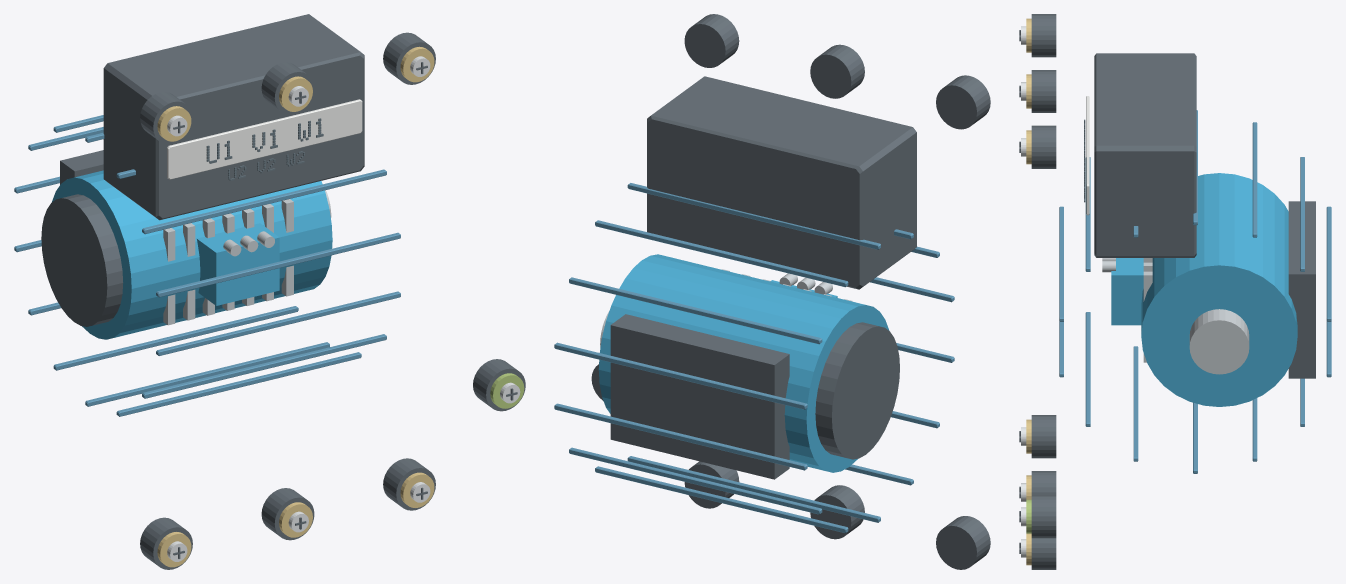
The model's file is motor6Terminal.glb.
3 renders of one model, left to right at view 1: azimuth 30°, elevation 25°; view 2: azimuth 150°, elevation 25°; view 3: azimuth 270°, elevation 25°, orthographic. The views are drawn at different scales.
Visible parts, largest first — view 1: motor6Terminal-detailed; view 2: motor6Terminal-detailed; view 3: motor6Terminal-detailed.
Part boxes in pixels (box(x1,y1,x2,y2)): motor6Terminal-detailed: box(14, 14, 525, 569); motor6Terminal-detailed: box(554, 14, 990, 569); motor6Terminal-detailed: box(1019, 14, 1331, 569).
Bounding box in the file's own units: 2.94 × 3.52 × 2.26.
